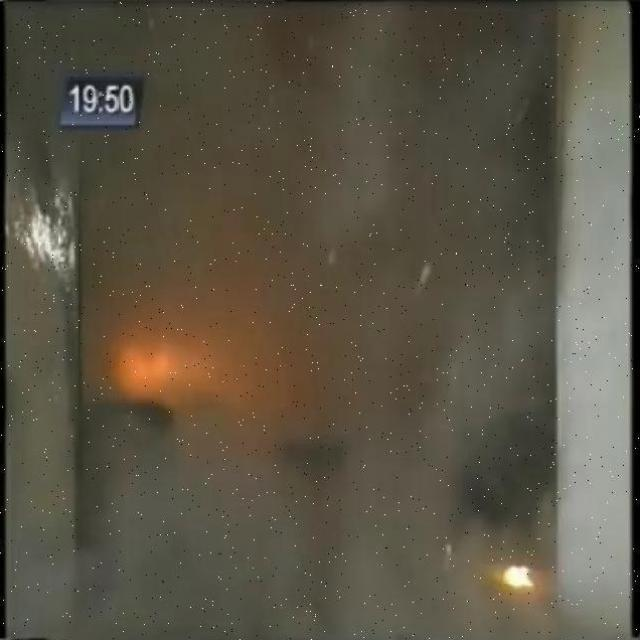fire: (12, 422, 463, 640), (315, 1, 549, 402)
smoke: (500, 555, 543, 596)
